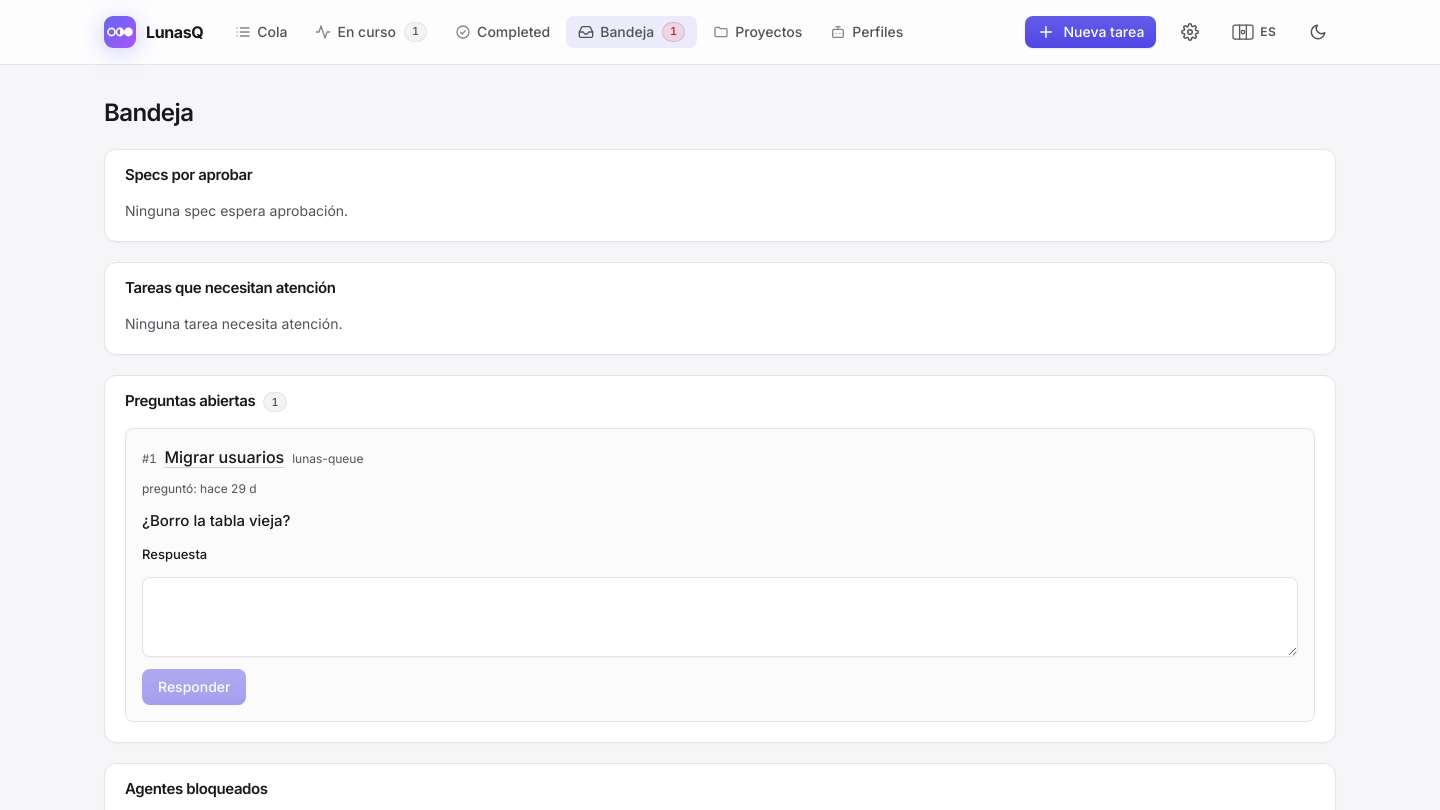
Test: inbox › if the question is no longer open it shows the server's error
Type "Sí" into the text box labelled "Respuesta" at (720, 617), box left=142, top=577, right=1298, bottom=657
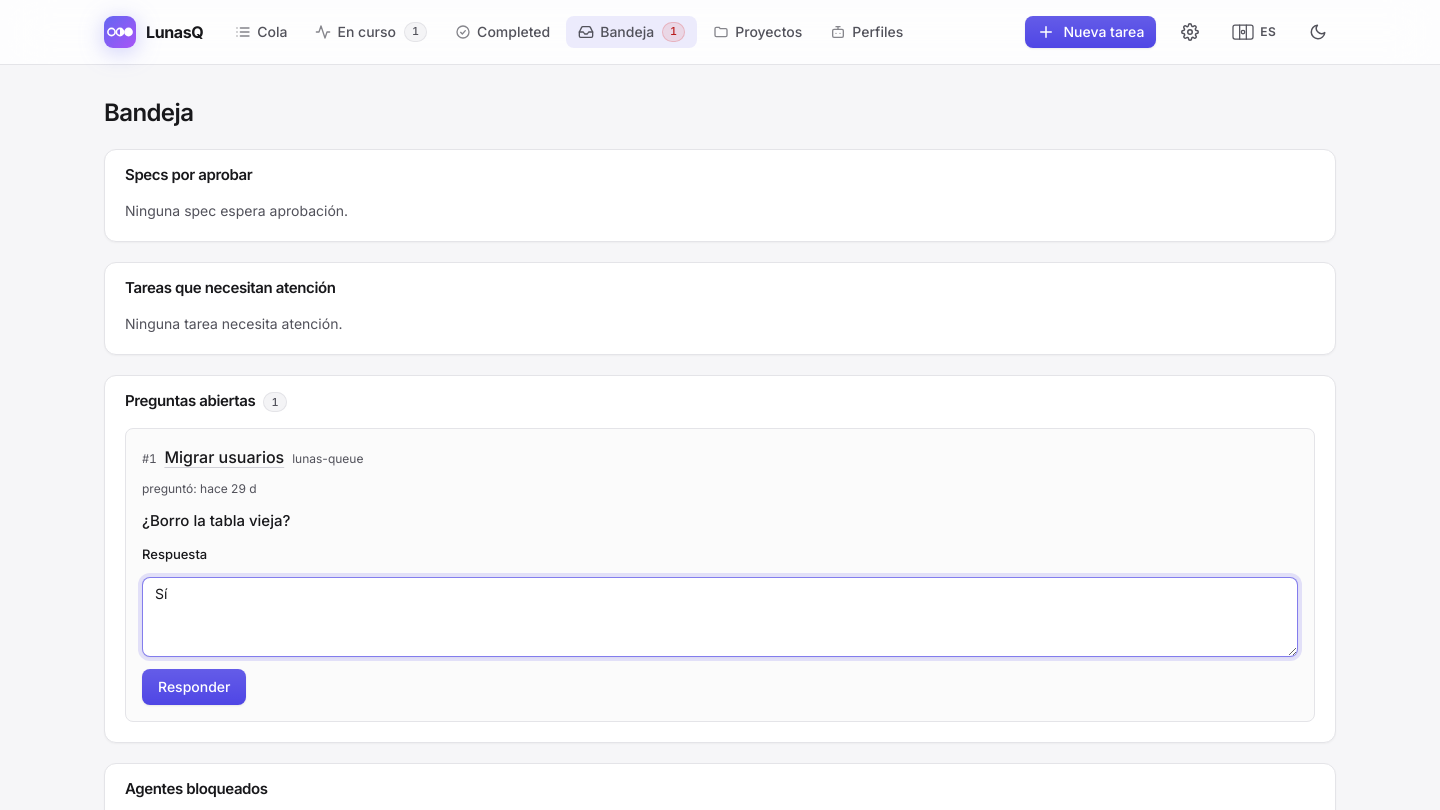
Click the button "Responder" at (194, 687), box left=142, top=669, right=246, bottom=705
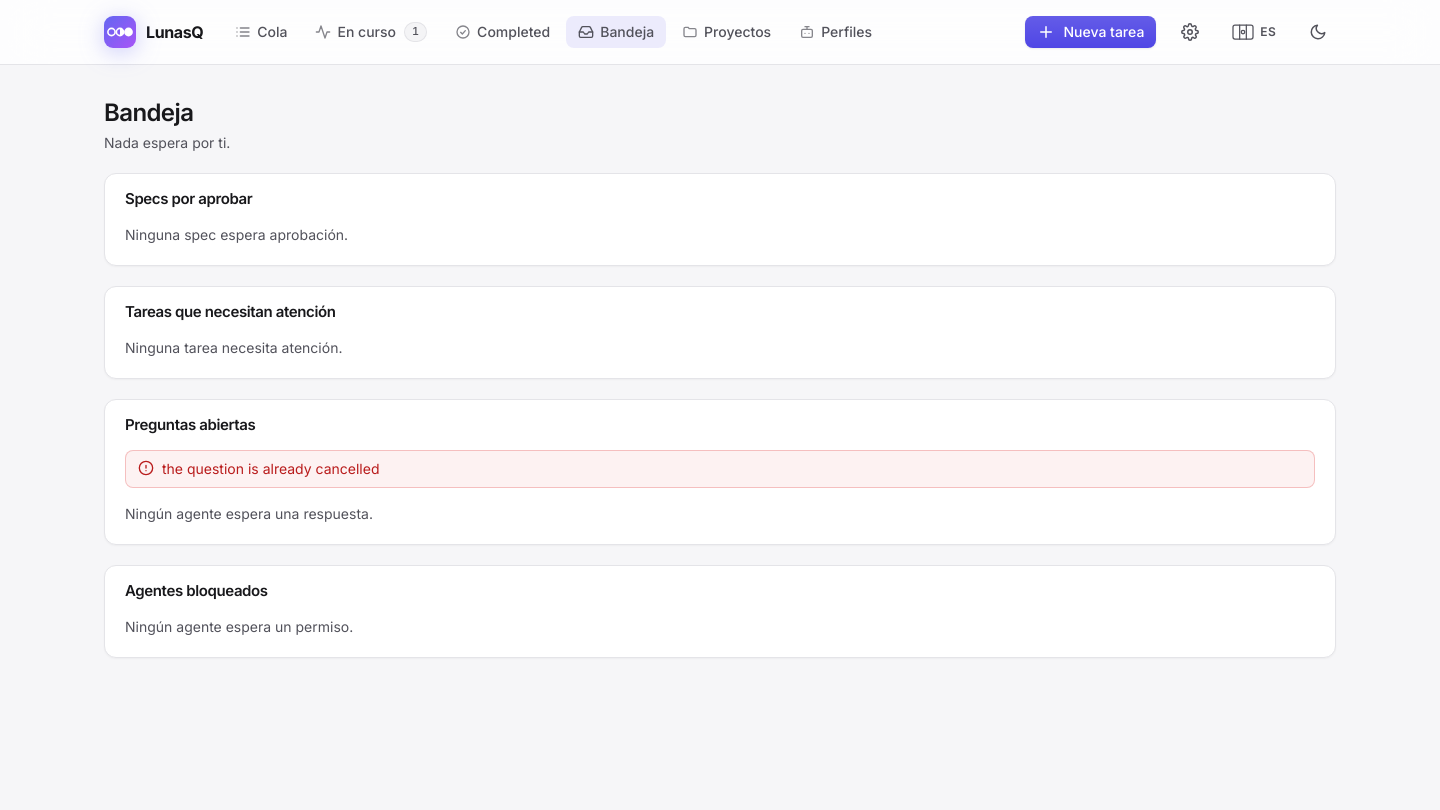
Expected: the message shows "is already cancelled", left=162, top=460, right=380, bottom=477
Expected: the text "Ningún agente espera una respuesta." is shown, left=125, top=505, right=373, bottom=522
